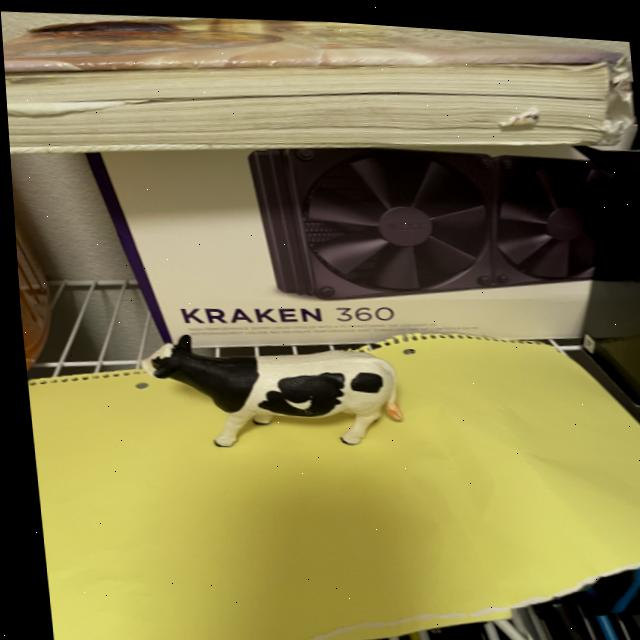cow: (132, 331, 401, 457)
